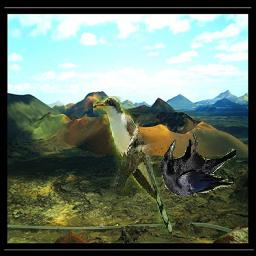Crow: (162, 132, 237, 197)
Cuckoo: (94, 96, 173, 234)
